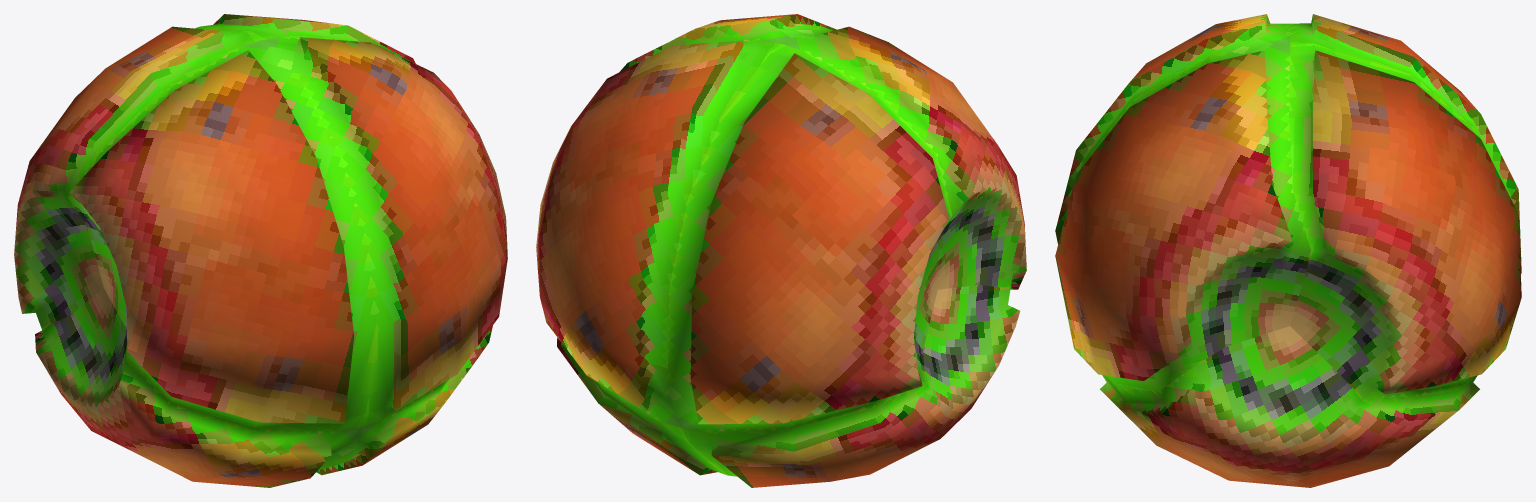
The picture shows the model from 3 angles, left to right: view 1: azimuth 30°, elevation 25°; view 2: azimuth 150°, elevation 25°; view 3: azimuth 270°, elevation 25°; orthographic projection.
Visible parts, largest first — view 1: C01_Body_Ch; view 2: C01_Body_Ch; view 3: C01_Body_Ch.
Part boxes in pixels (x1,y1,x2,y2): C01_Body_Ch: [14, 14, 507, 487]; C01_Body_Ch: [536, 14, 1026, 487]; C01_Body_Ch: [1055, 14, 1521, 487].
Bounding box in the file's own units: 75.95 × 82.05 × 81.73.
Materials: 1 (1 with a texture image).
